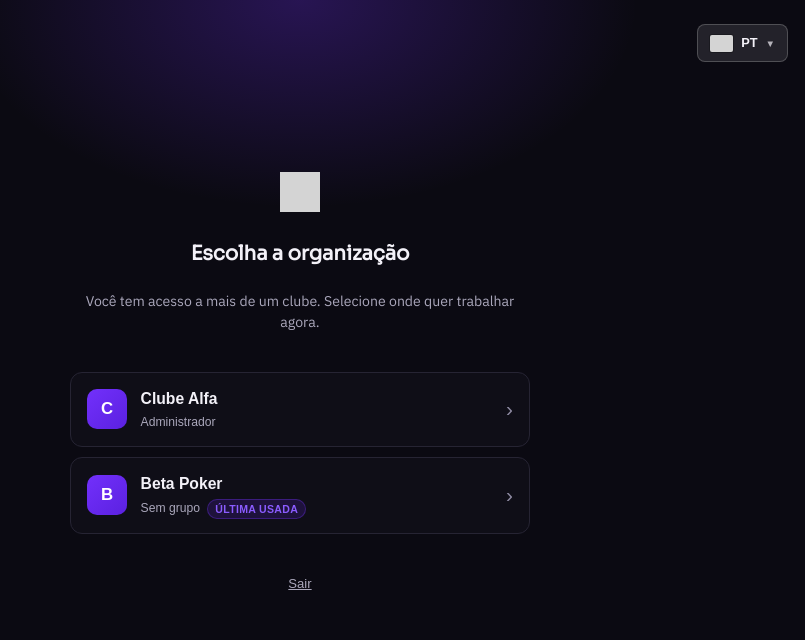
Test: entrada › falha ao entrar avisa e libera a lista de novo
Step 1. Click the text "Clube Alfa" → coordinates (179, 399), box [141,390,218,407]
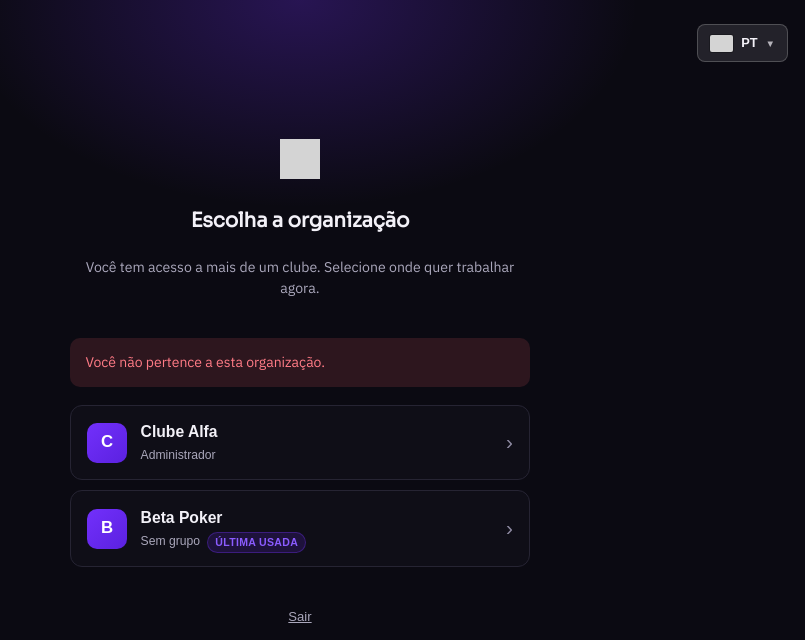
Expected: the button "C Clube Alfa Administrador ›" is enabled, [70,405,530,480]
Now the text "Você não pertence a esta organização." is shown, box [70,338,530,387]
